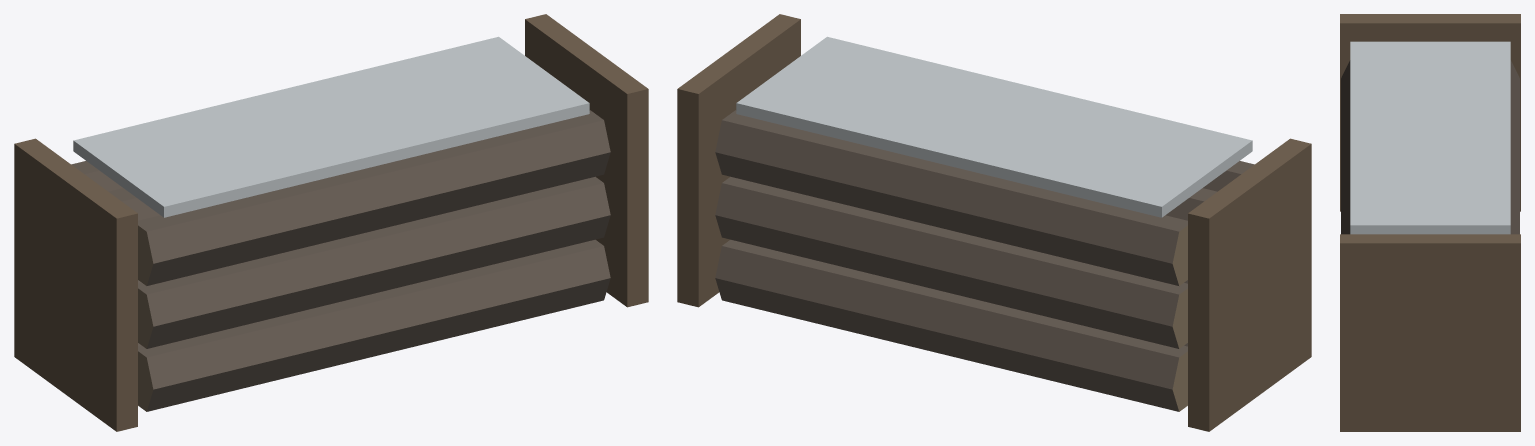
The model's file is firewood_rick.glb.
3 renders of one model, left to right at view 1: azimuth 30°, elevation 25°; view 2: azimuth 150°, elevation 25°; view 3: azimuth 270°, elevation 25°, orthographic. The views are drawn at different scales.
Parts seen in each view (by area): view 1: firewood_rick; view 2: firewood_rick; view 3: firewood_rick.
Boxes of the visible parts, x1=… form: firewood_rick: x1=14, y1=14, x2=648, y2=431; firewood_rick: x1=677, y1=14, x2=1311, y2=431; firewood_rick: x1=1340, y1=14, x2=1520, y2=431.
Size of the model in its own units: 3 by 1.15 by 1.
